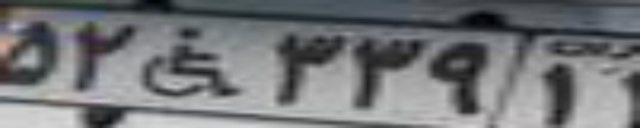1: (545, 61, 570, 126), (617, 73, 639, 126)
2: (72, 23, 137, 90)
3: (351, 38, 424, 110), (275, 33, 343, 108)
5: (1, 20, 57, 84)
9: (430, 41, 486, 115)
malol: (138, 27, 241, 100)
